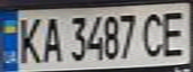3: (63, 12, 87, 62)
4: (84, 12, 106, 61)
7: (118, 10, 142, 60)
8: (103, 11, 124, 61)
A: (36, 13, 66, 64)
C: (139, 8, 172, 60)
E: (157, 7, 193, 58)
K: (12, 14, 45, 65)
